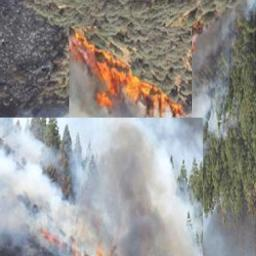Heavy smoke: (0, 113, 248, 256)
Medium fire: (62, 26, 188, 121)
